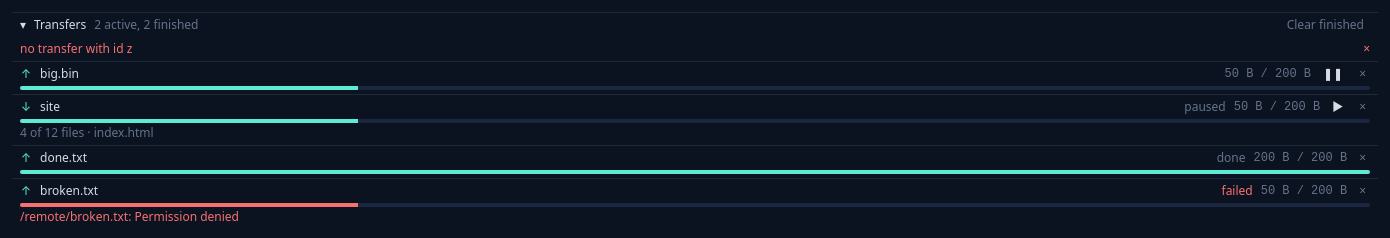
Test: the transfer panel › shows the last command failure and dismisses it
Expected: the message shows "no transfer with id z", [20,40,132,57]
Click the button named "Dismiss" at point(1367, 49), box [1363,41,1370,57]
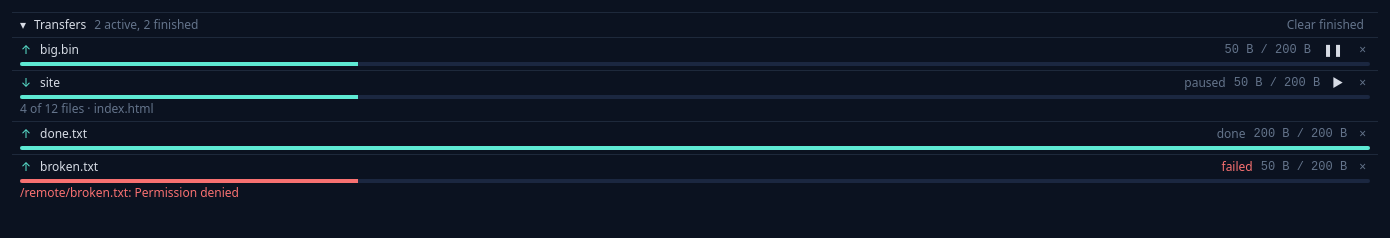
Now the message "no transfer with id z ×" is gone
